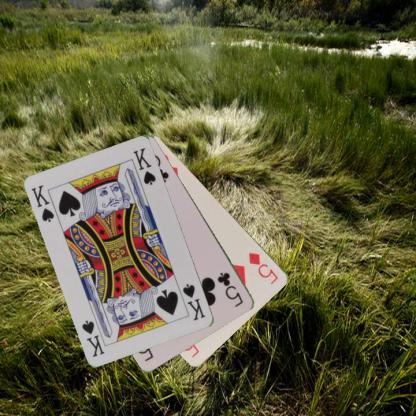5c: (214, 269, 245, 310)
5d: (246, 250, 280, 286)
Ks: (29, 182, 56, 224), (180, 281, 207, 322)
